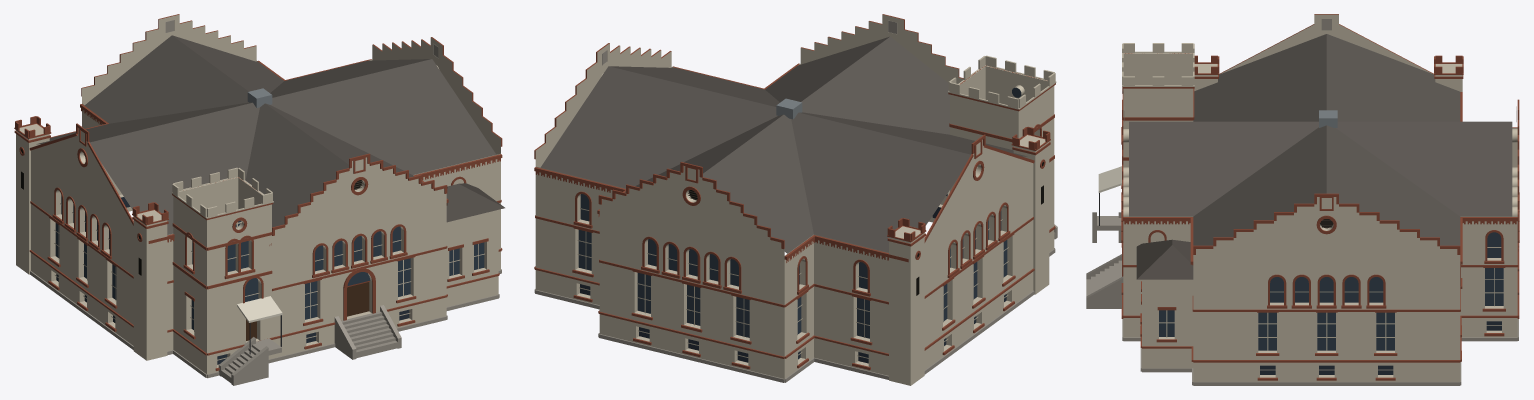
The model's file is ch-bethel-ame-1961.glb.
3 views of the same model, side by side, from view 1: azimuth 30°, elevation 25°; view 2: azimuth 150°, elevation 25°; view 3: azimuth 270°, elevation 25° (orthographic). The views are drawn at different scales.
Visible parts, largest first — view 1: ch_brick, ch_roof, ch_trim, ch_base, ch_stain, ch_roof2, ch_door, ch_canvas, ch_lead; view 2: ch_brick, ch_roof, ch_trim, ch_stain, ch_base, ch_lead, ch_glass; view 3: ch_brick, ch_roof, ch_trim, ch_stain, ch_base, ch_roof2, ch_lead, ch_glass, ch_canvas.
Boxes of the visible parts, x1,y1,x2,y2 form: ch_brick: [16, 14, 500, 374]; ch_roof: [36, 35, 496, 234]; ch_trim: [14, 14, 502, 370]; ch_base: [30, 20, 501, 385]; ch_stain: [55, 195, 484, 329]; ch_roof2: [446, 183, 504, 222]; ch_door: [246, 282, 369, 340]; ch_canvas: [237, 296, 282, 322]; ch_lead: [54, 154, 484, 360]; ch_brick: [535, 14, 1056, 385]; ch_roof: [540, 36, 1027, 253]; ch_trim: [534, 14, 1055, 369]; ch_stain: [578, 87, 1021, 338]; ch_base: [534, 20, 1057, 382]; ch_lead: [577, 167, 1008, 358]; ch_glass: [580, 207, 1006, 363]; ch_brick: [1122, 14, 1517, 381]; ch_roof: [1129, 34, 1512, 245]; ch_trim: [1121, 14, 1519, 380]; ch_stain: [1159, 232, 1503, 350]; ch_base: [1086, 19, 1518, 385]; ch_roof2: [1136, 239, 1193, 279]; ch_lead: [1159, 247, 1503, 370]; ch_glass: [1260, 321, 1501, 374]; ch_canvas: [1098, 166, 1121, 192].
Bounding box in the file's own units: 27.67 × 13.63 × 27.94.
